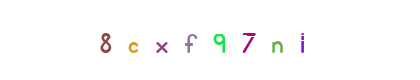1: (226, 0, 306, 80)
7: (180, 0, 260, 80)
8: (65, 0, 145, 80)
9: (170, 0, 250, 80)
C: (93, 0, 173, 80)
F: (151, 0, 231, 80)
N: (198, 0, 278, 80)
X: (131, 0, 211, 80)
